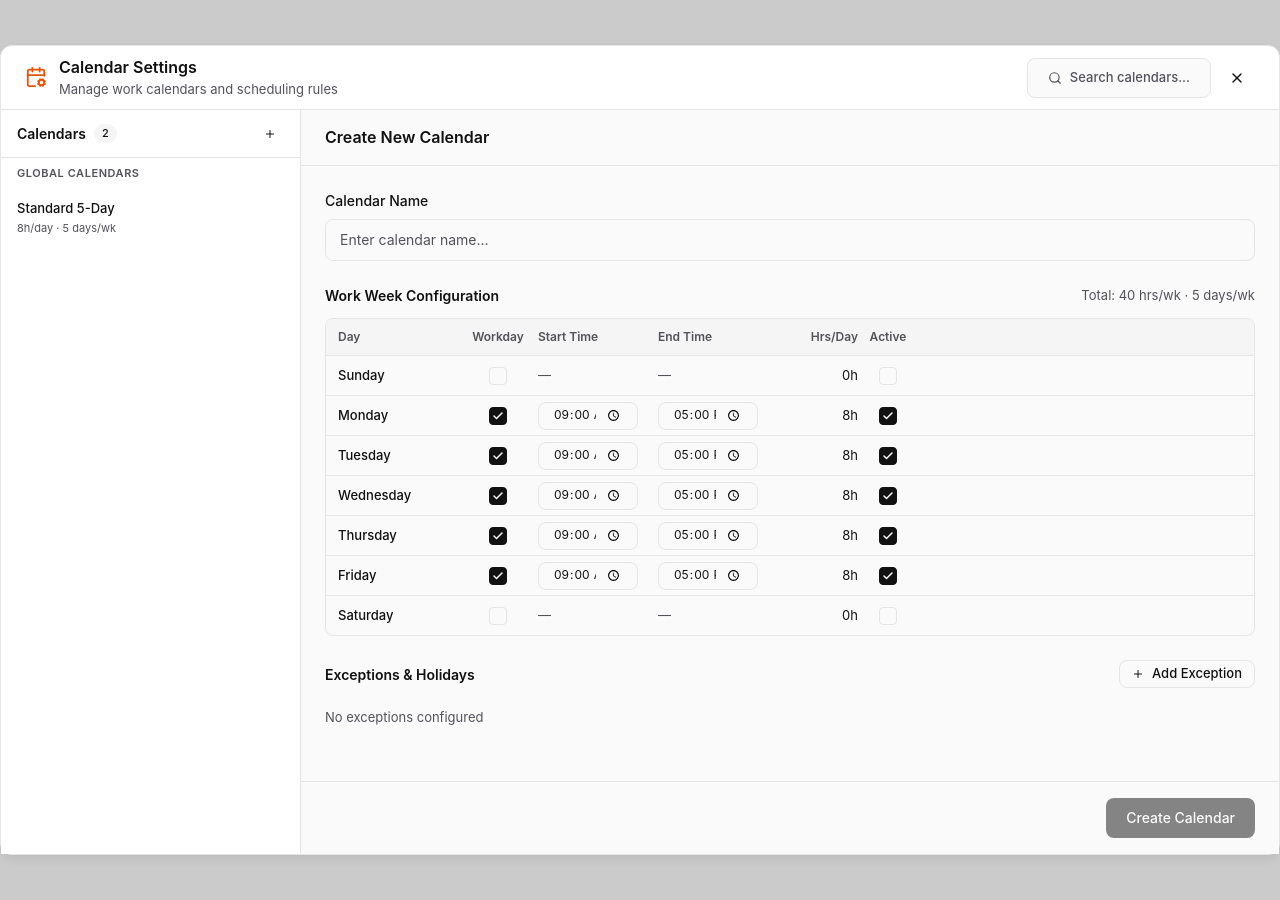
Calendar list and selection › clicking a calendar shows its detail view on the right
Click the text "Standard 5-Day". click: {"x": 66, "y": 209}
box: x1=17 y1=199 x2=115 y2=219
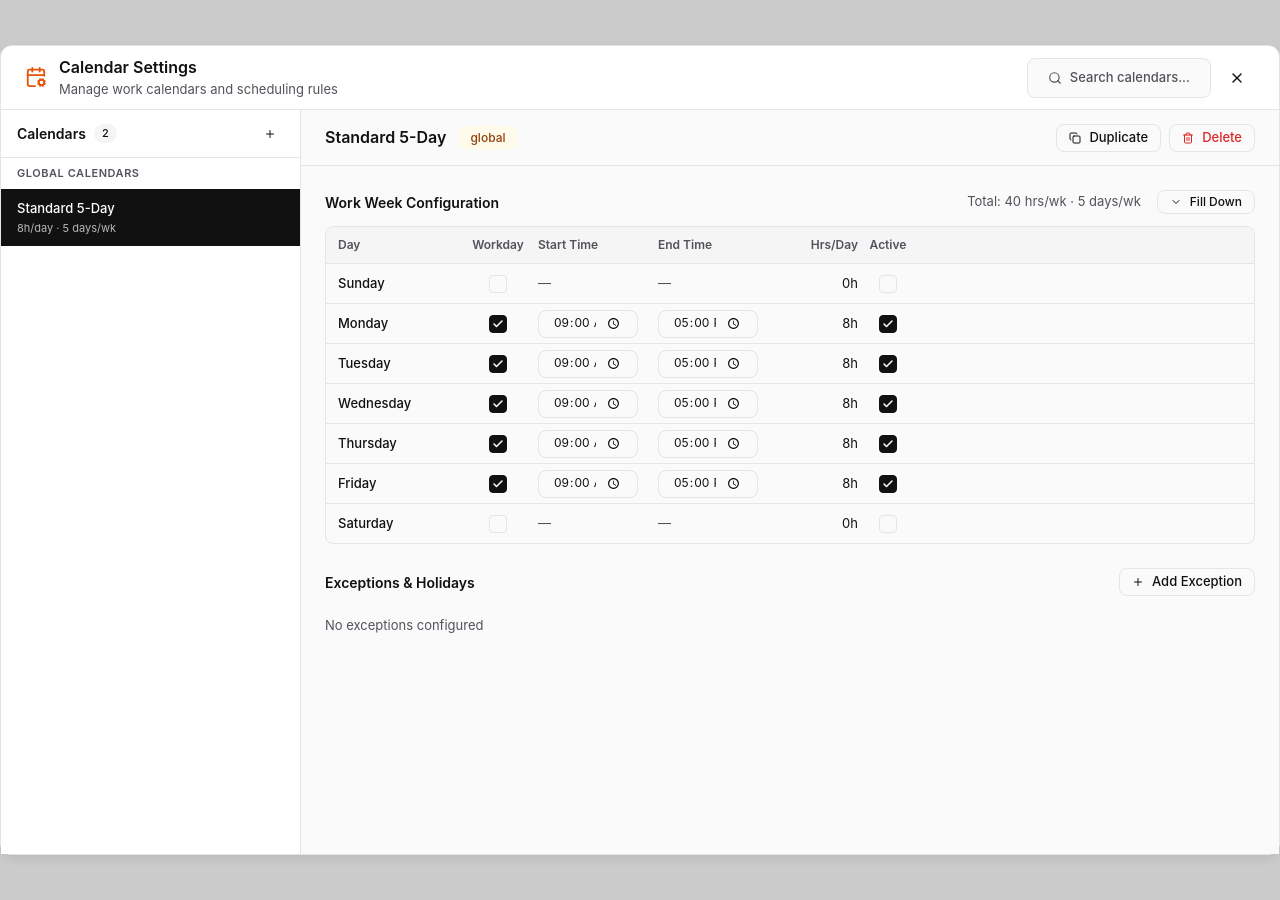
Expected: the text "Work Week Configuration" is shown, x1=325 y1=192 x2=499 y2=212
Expected: the text "Create New Calendar" is gone
